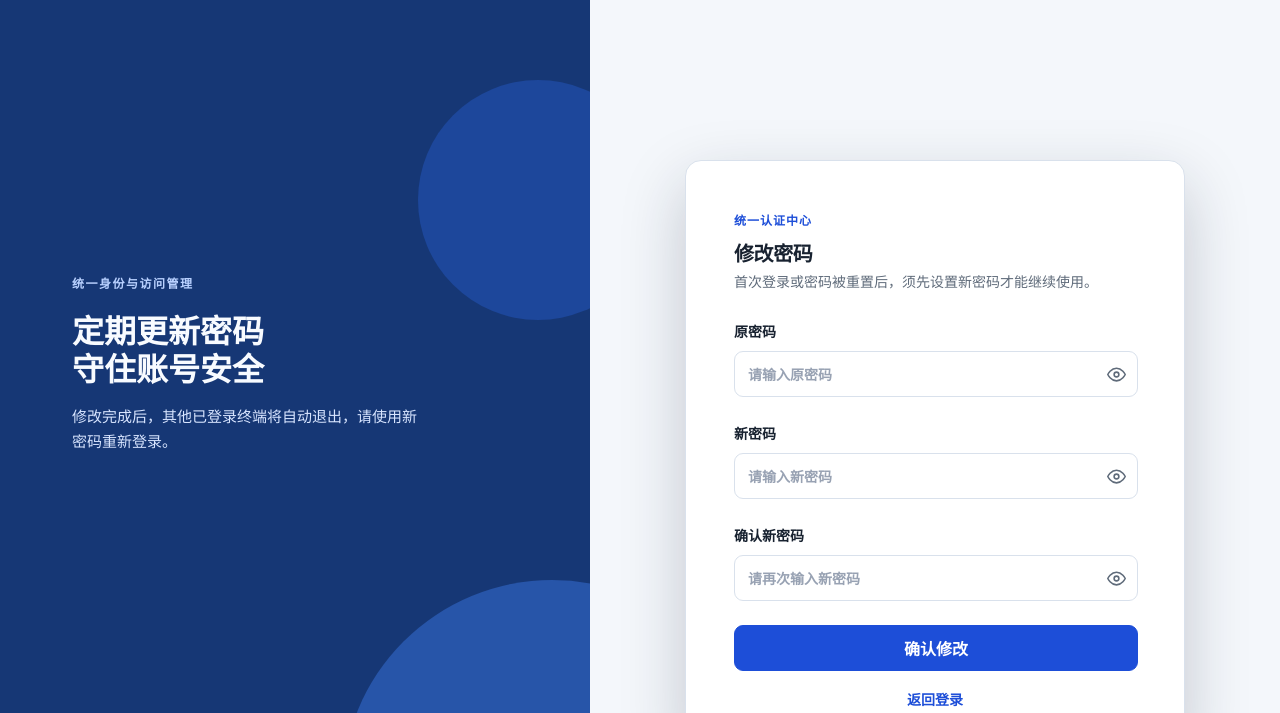
Test case: ChangePasswordView › 确认新密码失焦即比对，不一致无需提交就提示
The width and height of the screenshot is (1280, 713).
Type "Admin@1234" into the password field labelled "原密码".
click(936, 374); type("Admin@1234")  # box x1=734 y1=351 x2=1138 y2=397
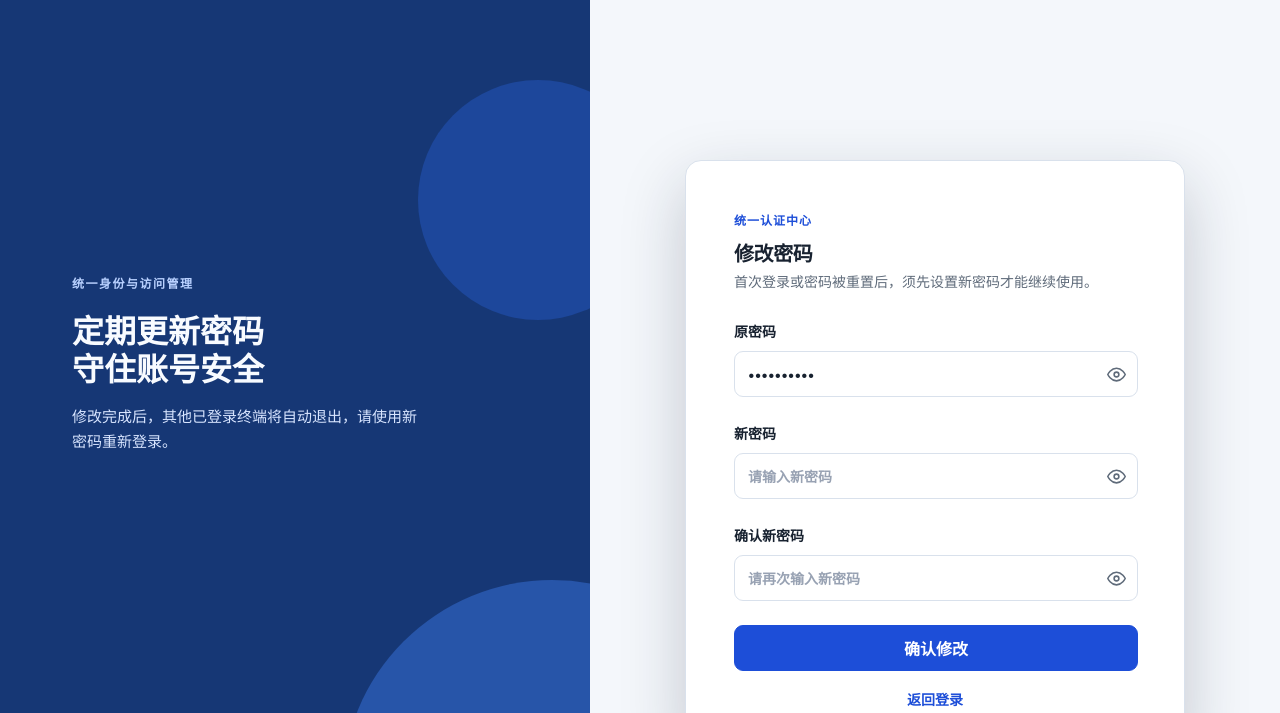
Type "NewPass@1234" into the password field labelled "新密码".
click(936, 476); type("NewPass@1234")  # box x1=734 y1=453 x2=1138 y2=499
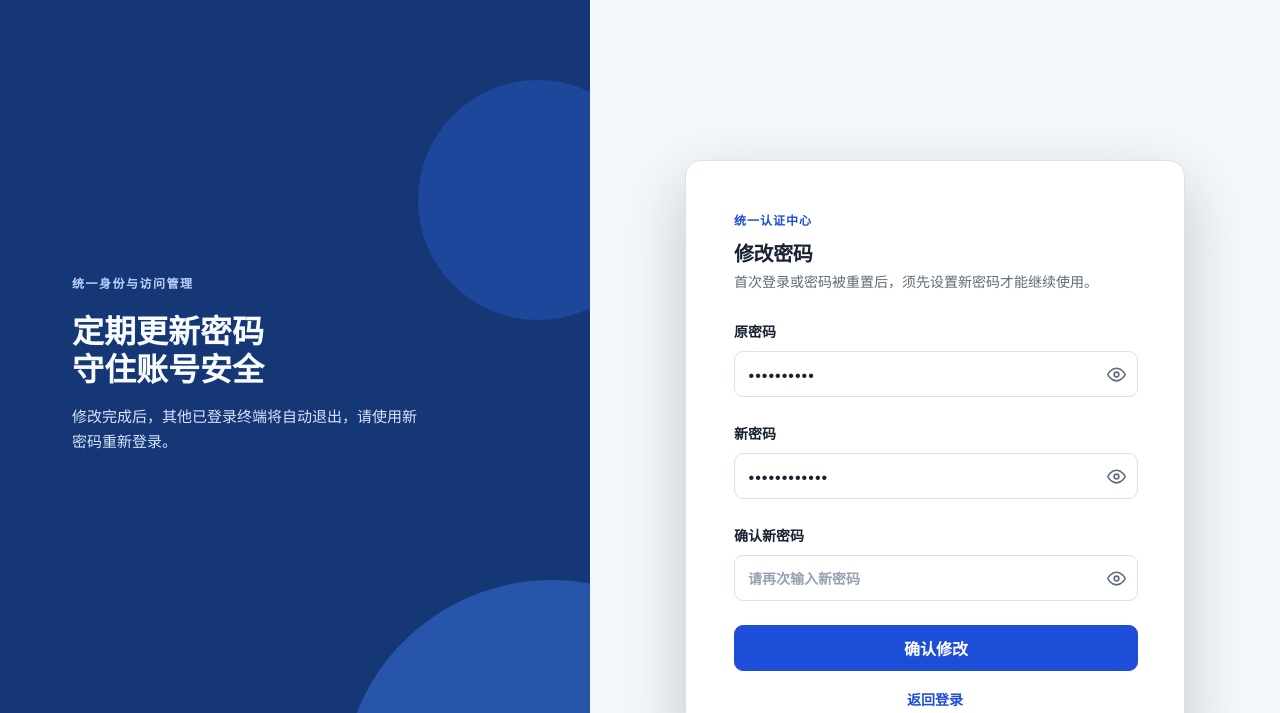
Type "Different@1234" into the password field labelled "确认新密码".
click(936, 578); type("Different@1234")  # box x1=734 y1=555 x2=1138 y2=601
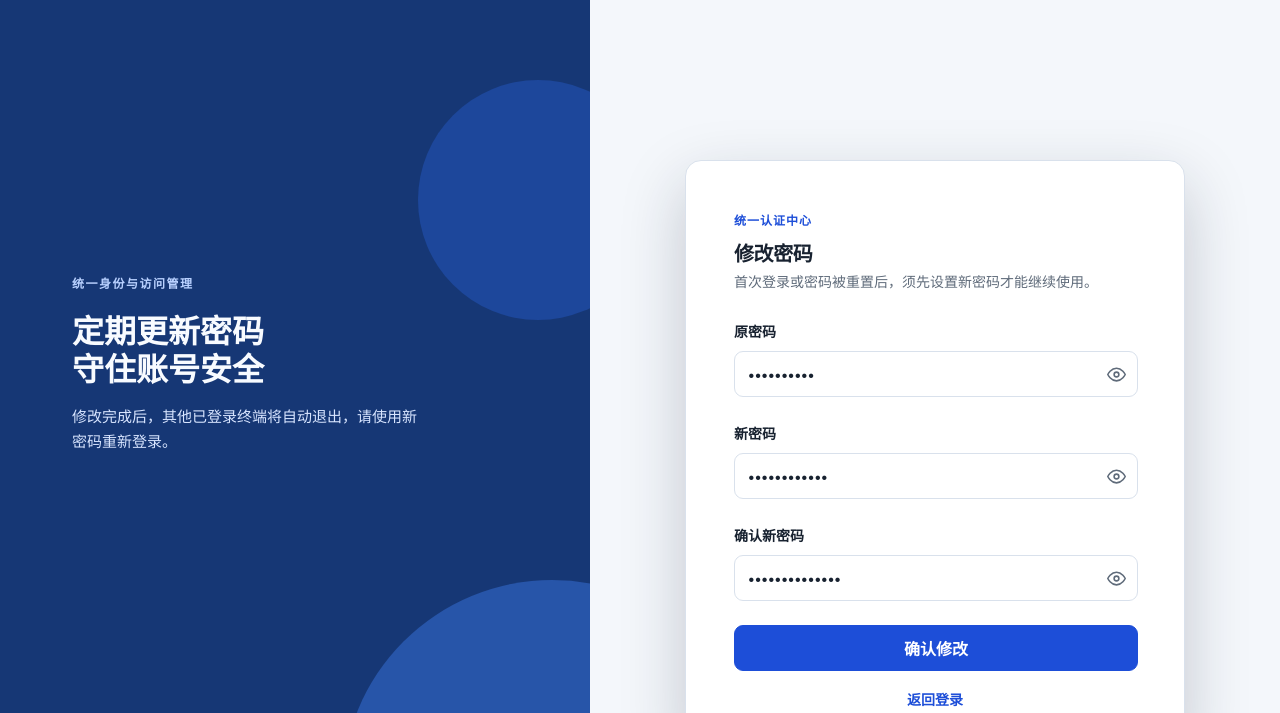
Leave the password field labelled "确认新密码", box x1=734 y1=555 x2=1138 y2=601
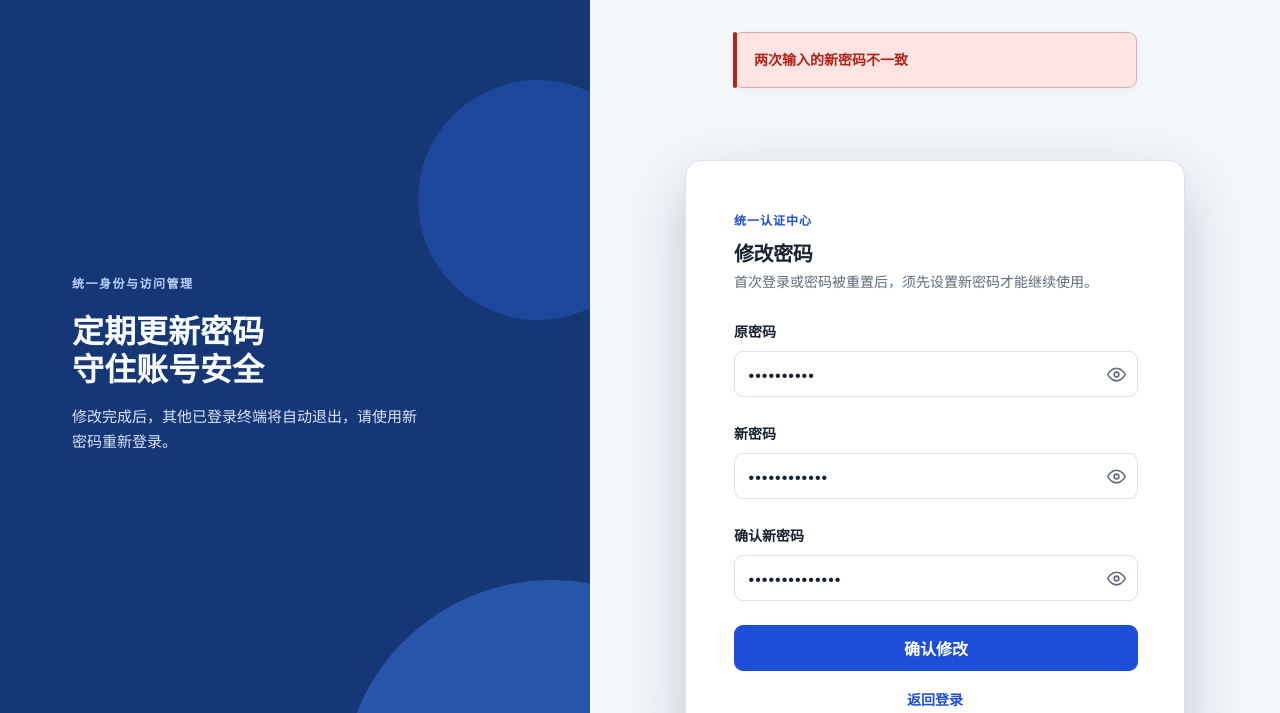
Expected: the message "两次输入的新密码不一致" is shown, x1=733 y1=32 x2=1137 y2=88
